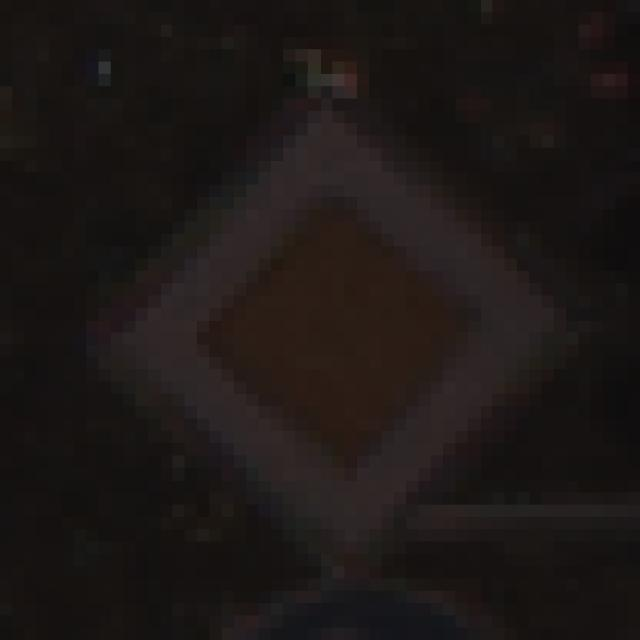Main Road: (75, 75, 567, 567)
